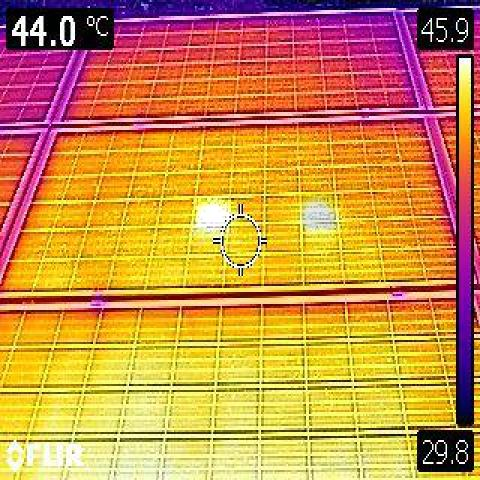fault: (196, 196, 229, 227), (302, 197, 335, 228)
